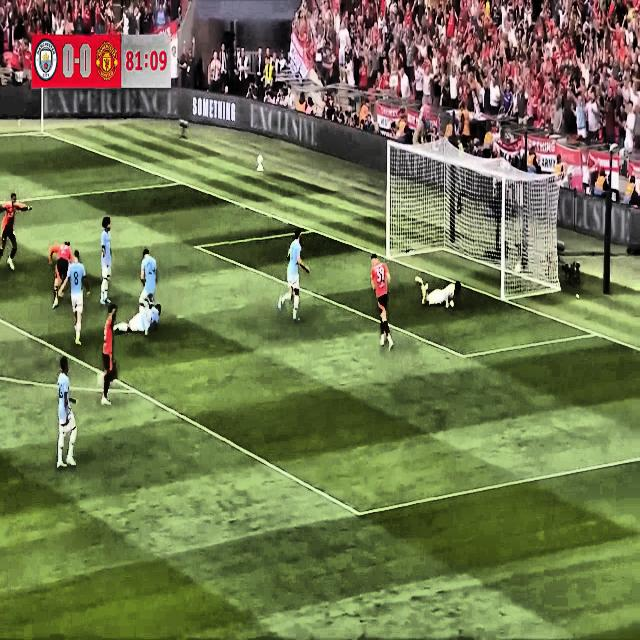ball: (509, 252, 526, 281)
goal_keeper: (413, 264, 464, 312)
players: (270, 219, 308, 331), (369, 248, 400, 361), (54, 251, 88, 345), (54, 350, 80, 471), (96, 304, 123, 410), (0, 189, 33, 274), (48, 232, 75, 312), (108, 306, 166, 343), (136, 246, 160, 328), (97, 215, 116, 309)
